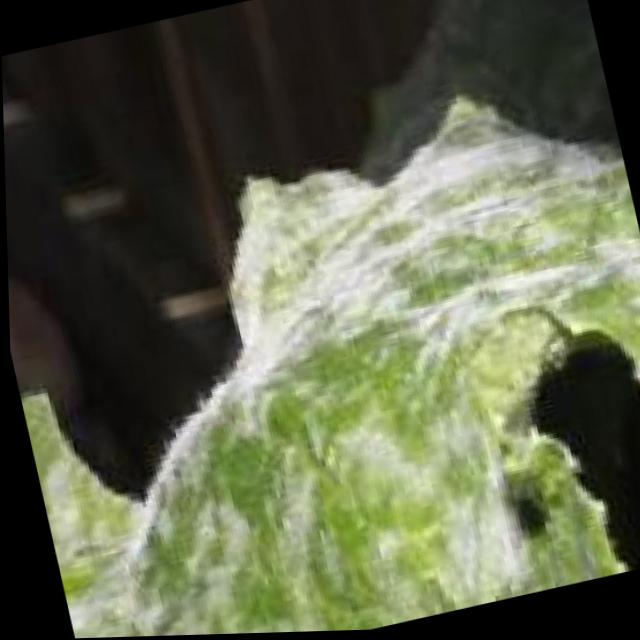Bad: (47, 98, 640, 638)
